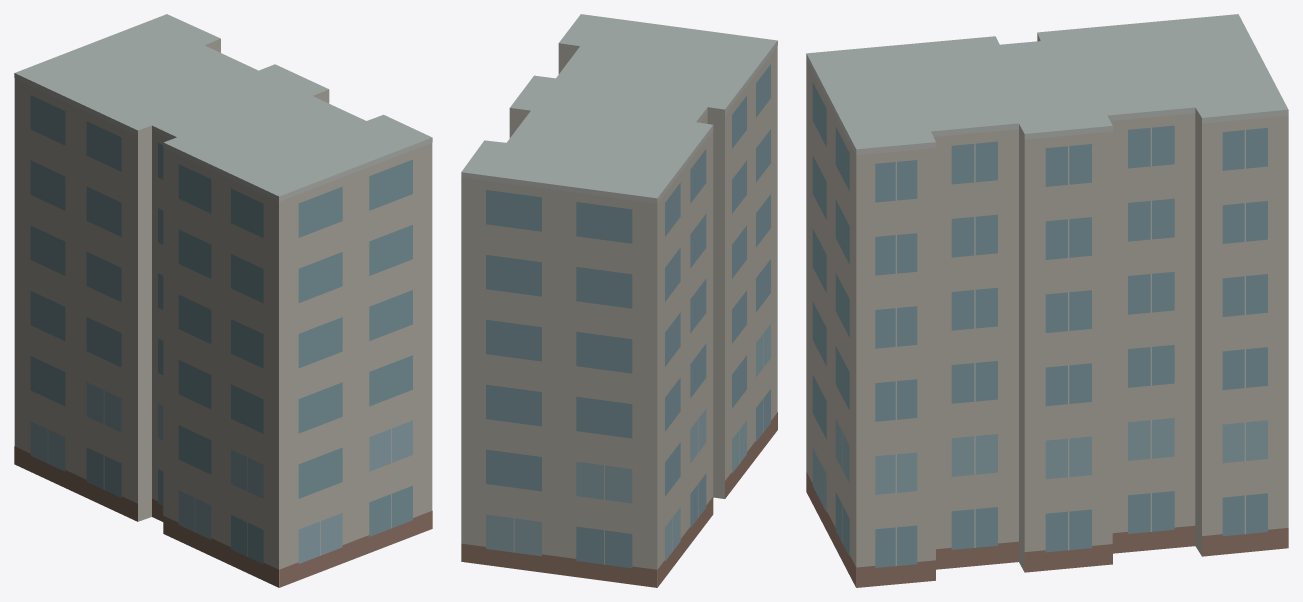
File: survey-upis-32920843.glb
The picture shows the model from 3 angles, left to right: view 1: azimuth 30°, elevation 25°; view 2: azimuth 150°, elevation 25°; view 3: azimuth 270°, elevation 25°; orthographic projection. The views are drawn at different scales.
Parts seen in each view (by area): view 1: survey-upis-32920843.tmp; view 2: survey-upis-32920843.tmp; view 3: survey-upis-32920843.tmp.
Boxes of the visible parts, x1,y1,x2,y2 form: survey-upis-32920843.tmp: (14, 14, 432, 587); survey-upis-32920843.tmp: (461, 14, 777, 587); survey-upis-32920843.tmp: (806, 14, 1288, 587).
Size of the model in its own units: 12.32 by 18.6 by 18.54.
